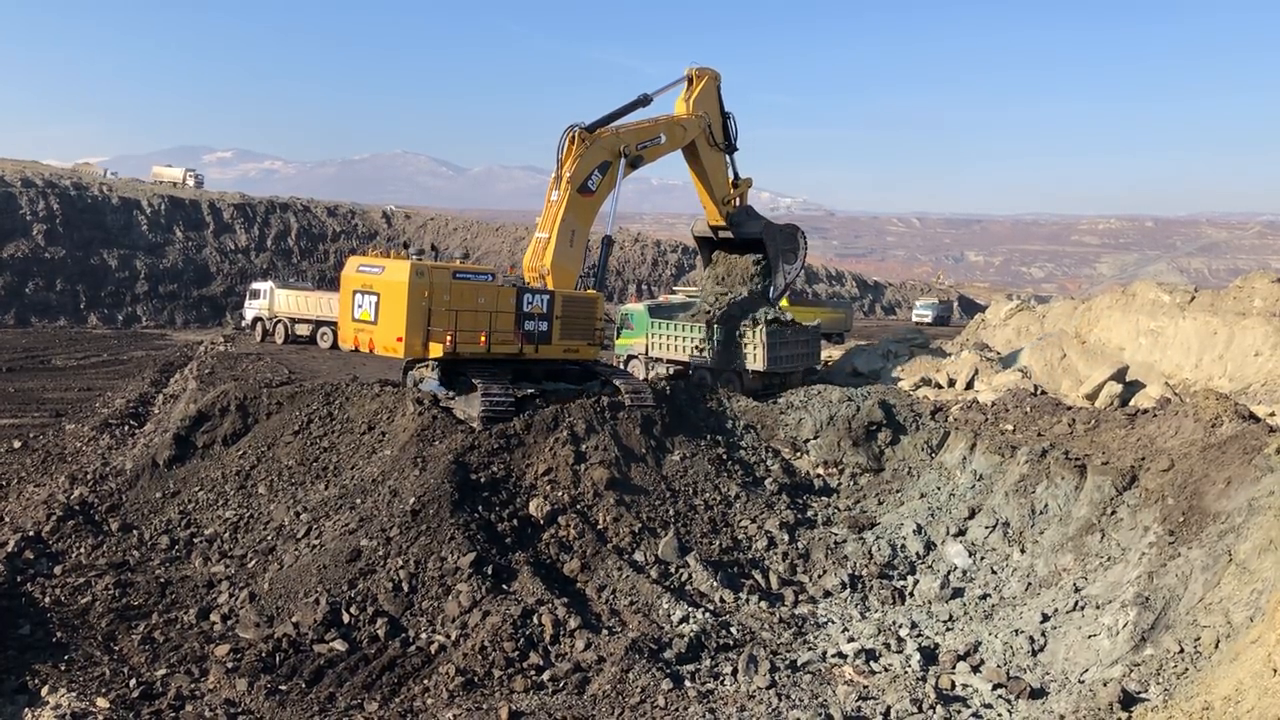full: (681, 209, 810, 307)
